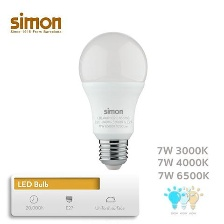light_bulb: (74, 26, 151, 171)
